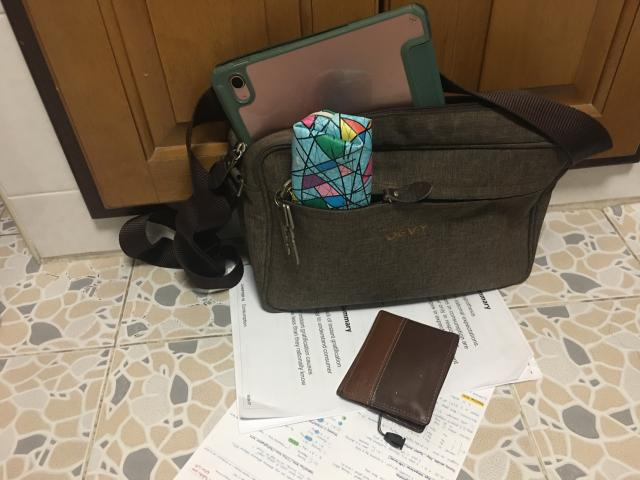Keys: (274, 180, 300, 265)
Wallet: (336, 310, 459, 432)
paper: (227, 230, 540, 435), (175, 389, 494, 479)
